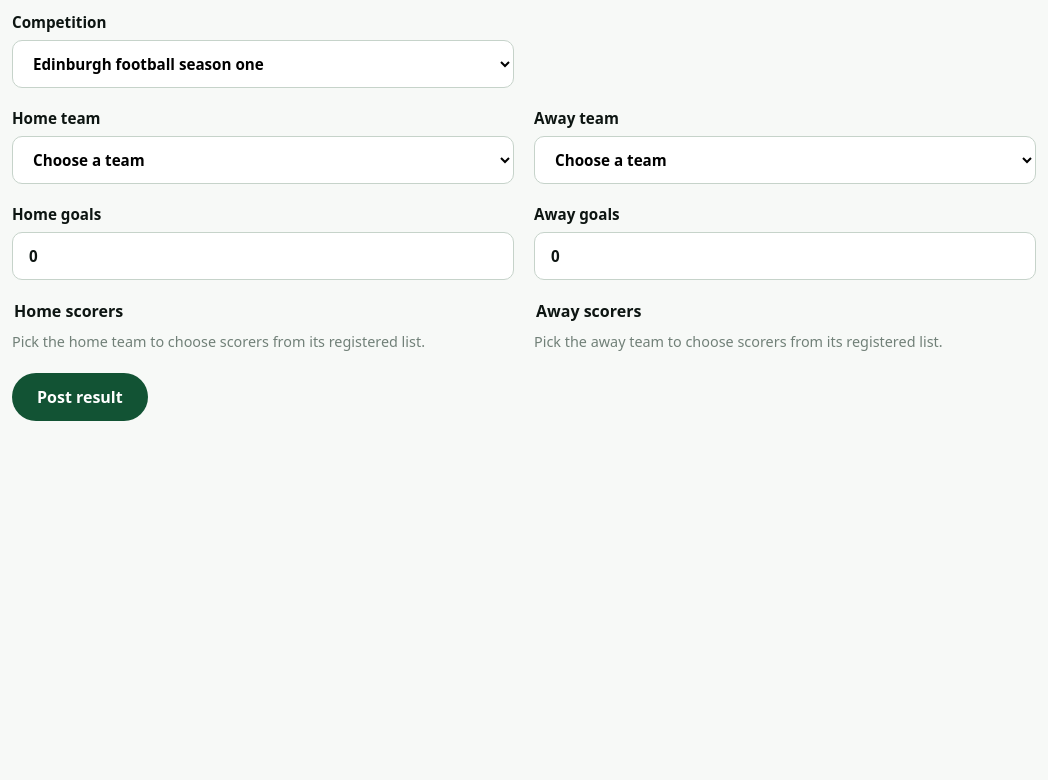
Test: FootballResultForm › fills player lists from the selected registered sides
Select "Pitch FC" in the dropdown labelled "Home team" at point(263, 160), box [12, 136, 514, 184]
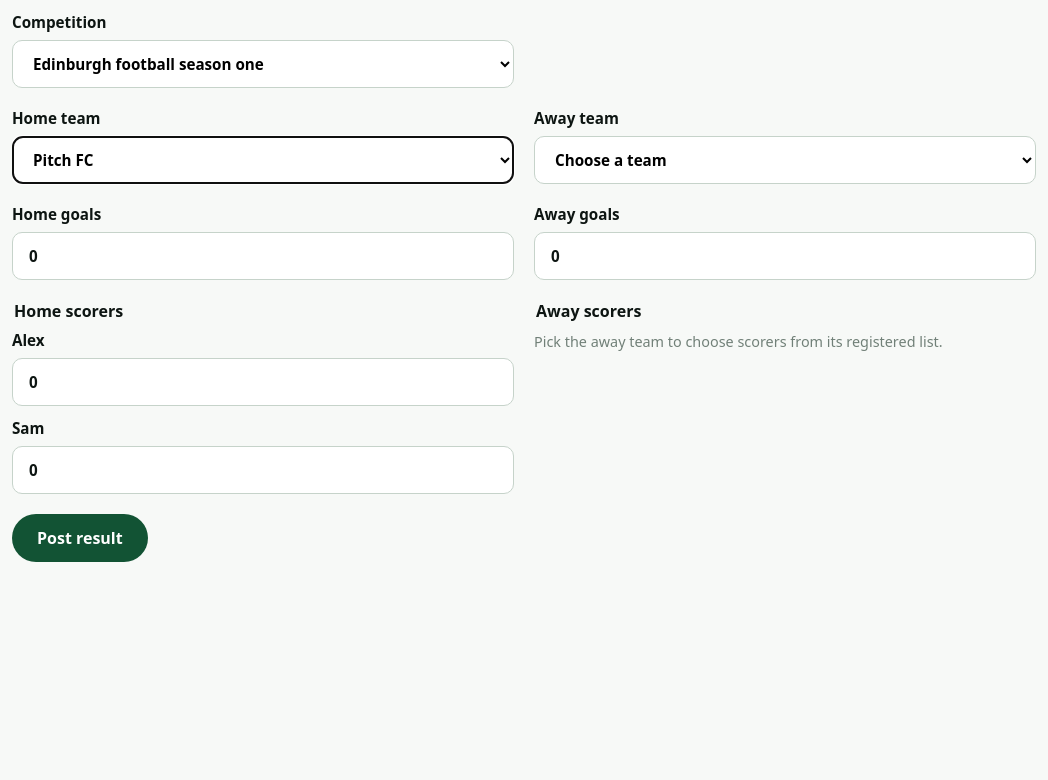
Select "Dockside" in the dropdown labelled "Away team" at point(785, 160), box [534, 136, 1036, 184]
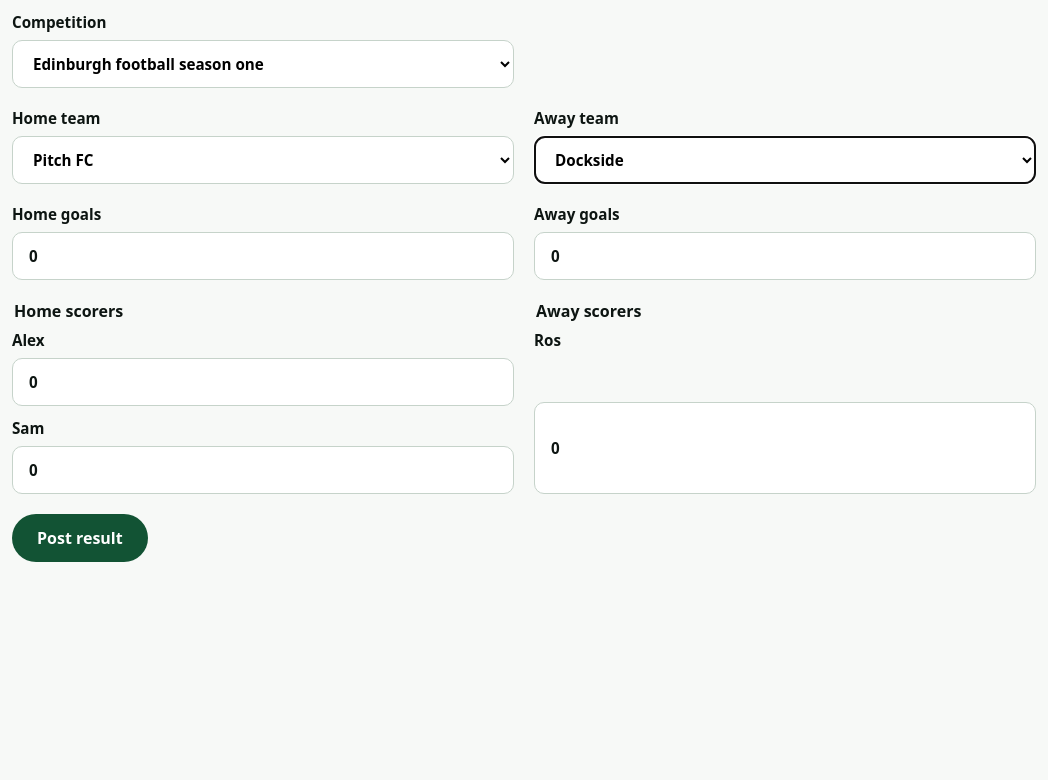
Check: the number field labelled "Alex" is shown, box [12, 358, 514, 406]
Check: the number field labelled "Sam" is shown, box [12, 446, 514, 494]
Check: the number field labelled "Ros" is shown, box [534, 402, 1036, 494]
